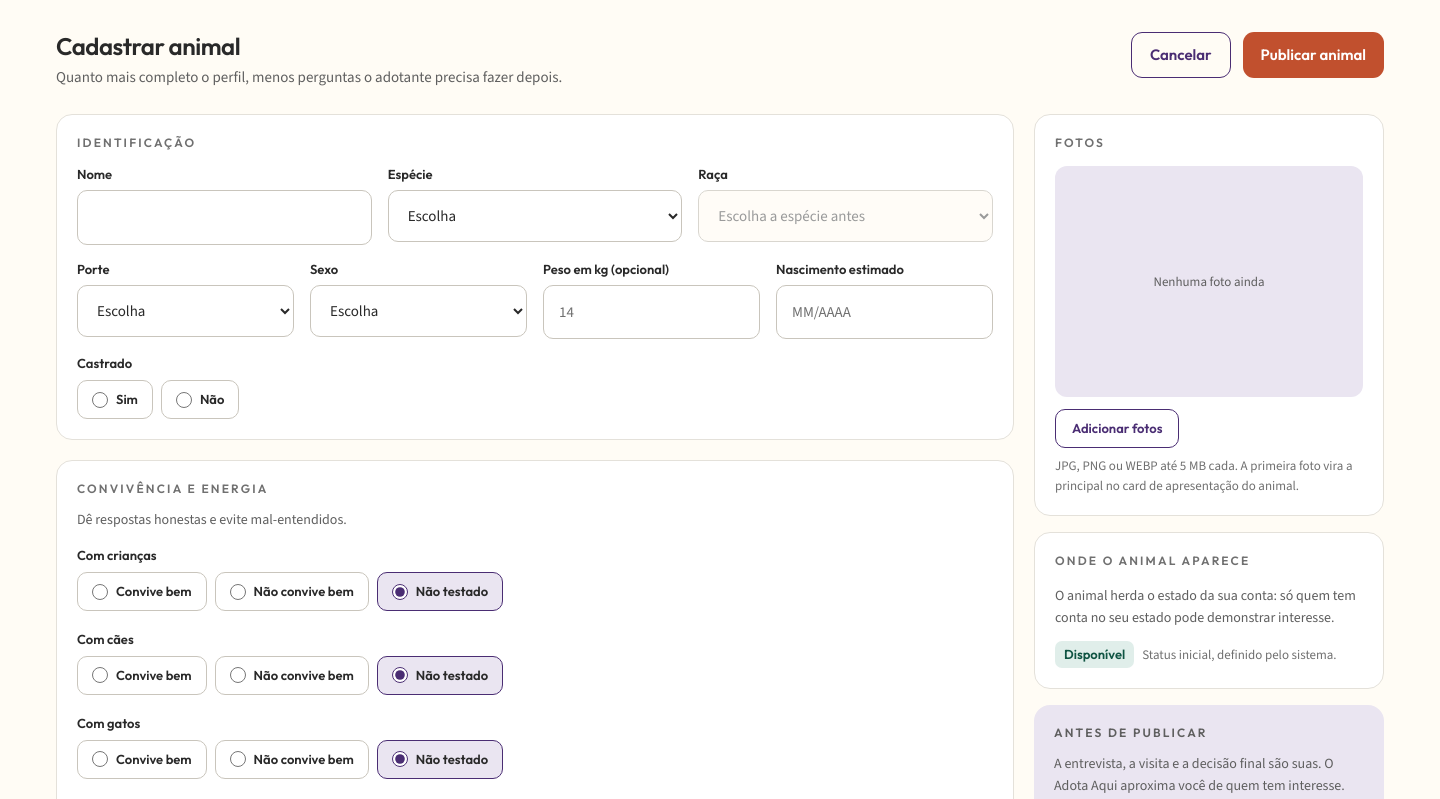
Scenario: a raça só libera depois da espécie e vem da API
Expected: the dropdown labelled "Raça" is disabled, [698,190,993,242]
Select "Cão" in the dropdown labelled "Espécie" at (535, 216), box [388,190,682,242]
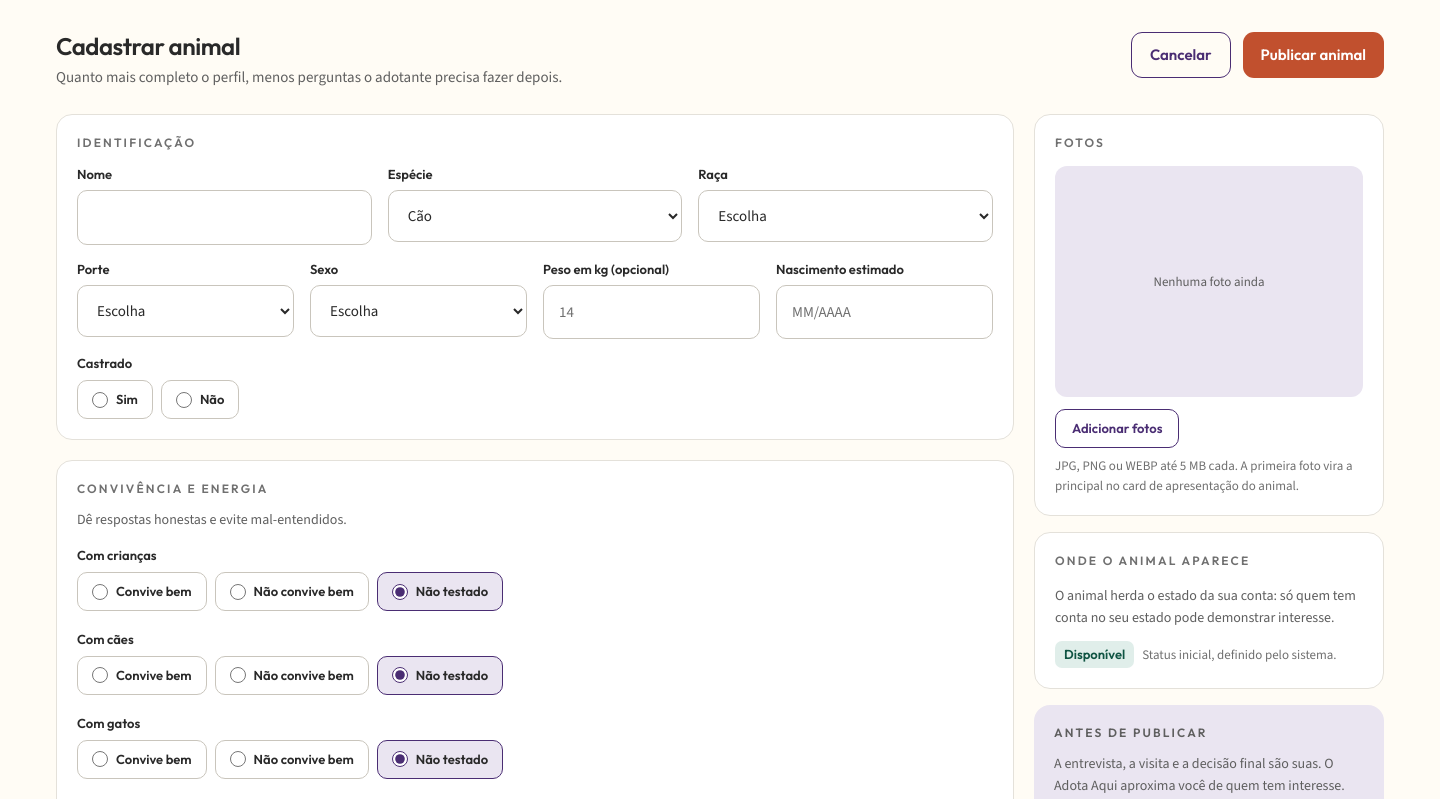
Expected: the dropdown labelled "Raça" is enabled, [698,190,993,242]
